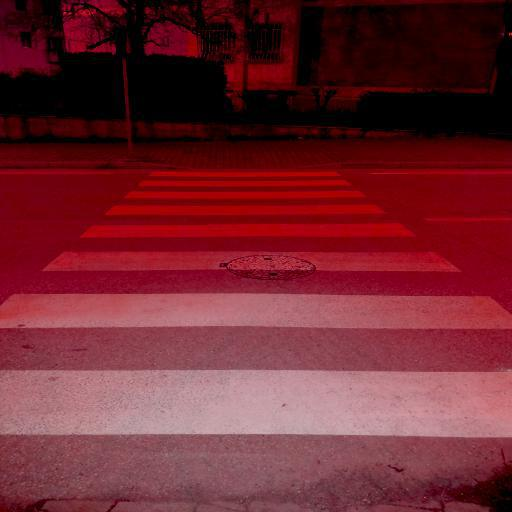crosswalk: (1, 286, 511, 446), (69, 200, 423, 242)
